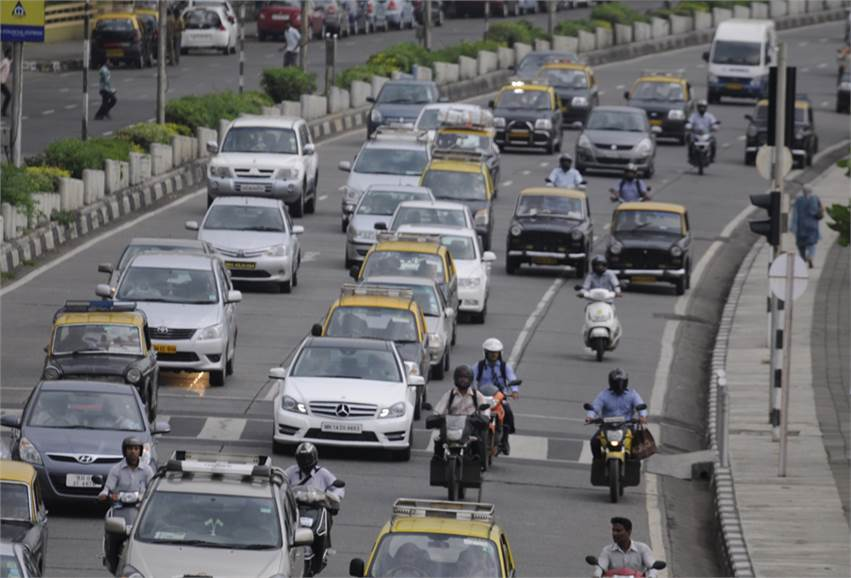car: (8, 353, 159, 513), (266, 327, 414, 469), (111, 253, 241, 383), (29, 288, 162, 409), (192, 95, 325, 209), (194, 195, 313, 304), (350, 260, 450, 379), (601, 188, 701, 297), (502, 178, 585, 287), (575, 90, 657, 190), (348, 160, 436, 246), (387, 192, 473, 279), (482, 70, 561, 156)
two_wheehler: (113, 455, 297, 578), (557, 260, 641, 369), (579, 377, 649, 482), (462, 334, 505, 456), (673, 95, 722, 172)
